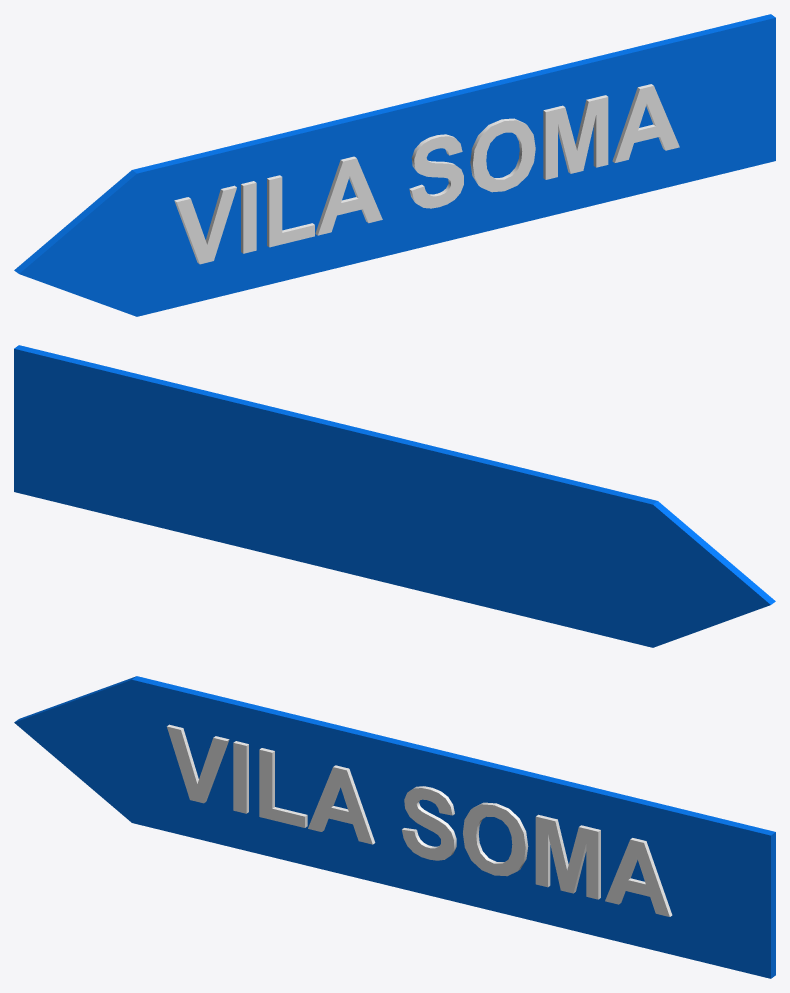
The model's file is placa Vila Soma.fbx.
The picture shows the model from 3 angles, top to bottom: view 1: azimuth 30°, elevation 25°; view 2: azimuth 150°, elevation 25°; view 3: azimuth 330°, elevation 25°; orthographic projection.
Parts seen in each view (by area): view 1: vila soma, Object_2, Object_3, Object_4, Object_1, Object_5, Object_8, Object_6, Object_7; view 2: vila soma; view 3: vila soma, Object_2, Object_3, Object_4, Object_5, Object_1, Object_8, Object_6, Object_7.
Part boxes in pixels (bbox=[...]): vila soma: bbox=[14, 14, 775, 316]; Object_2: bbox=[543, 95, 608, 179]; Object_3: bbox=[470, 118, 535, 192]; Object_4: bbox=[409, 134, 463, 208]; Object_1: bbox=[612, 84, 679, 162]; Object_5: bbox=[315, 156, 382, 235]; Object_8: bbox=[174, 185, 236, 264]; Object_6: bbox=[267, 175, 314, 247]; Object_7: bbox=[241, 181, 256, 253]; vila soma: bbox=[14, 345, 775, 647]; vila soma: bbox=[14, 676, 775, 978]; Object_2: bbox=[535, 814, 600, 899]; Object_3: bbox=[463, 802, 528, 876]; Object_4: bbox=[402, 786, 456, 860]; Object_5: bbox=[308, 765, 375, 844]; Object_1: bbox=[605, 838, 672, 916]; Object_8: bbox=[167, 724, 229, 803]; Object_6: bbox=[259, 748, 307, 827]; Object_7: bbox=[233, 741, 248, 813].
Size of the model in its own units: 1750 by 317 by 30.
